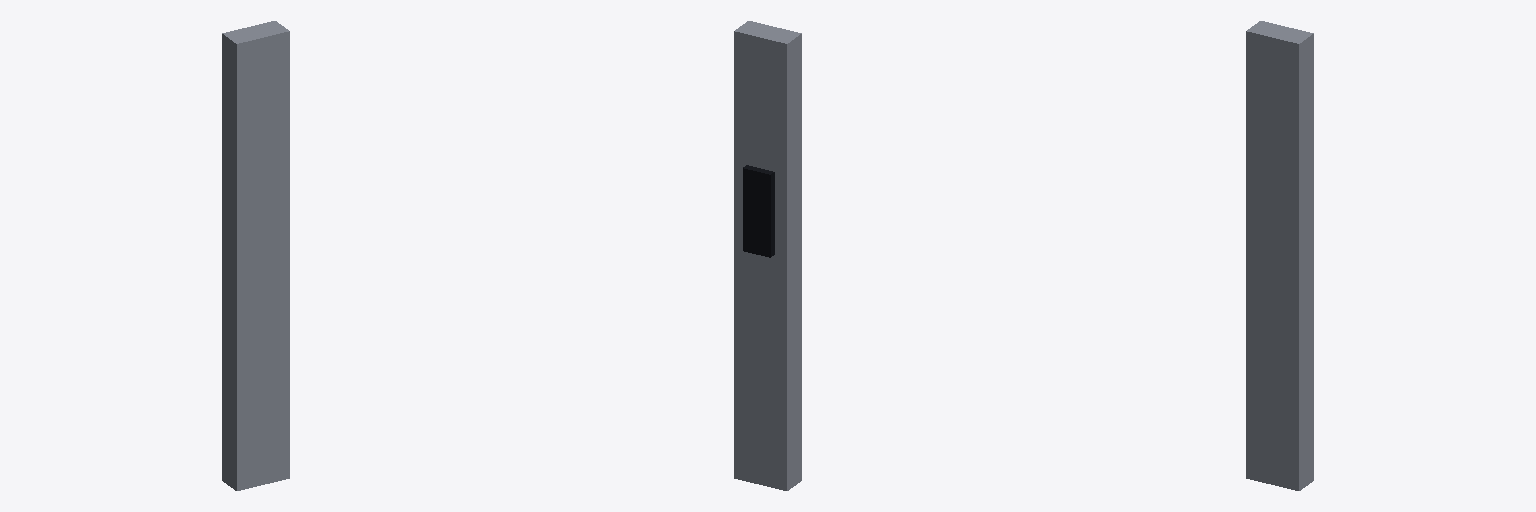
URDF robot description (artmanip_knife_015):
<?xml version='1.0' encoding='utf-8'?>
<robot name="artmanip_knife_015"><link name="link_0"><inertial><mass value="0.029" /><inertia ixx="5.3876419006903214e-05" iyy="5.4519448581070636e-05" izz="1.01890051501797e-06" ixy="0" ixz="0" iyz="0" /></inertial><visual><geometry><box size="0.01854312823282648 0.008818526042105103 0.1490500728681166" /></geometry><material name="link_0_color"><color rgba=".58 .60 .64 1" /></material></visual><collision><geometry><box size="0.01854312823282648 0.008818526042105103 0.1490500728681166" /></geometry></collision></link><link name="link_1"><inertial><mass value="0.006" /><inertia ixx="3.8602913610909997e-07" iyy="4.3045985869148696e-07" izz="5.0775541471966024e-08" ixy="0" ixz="0" iyz="0" /></inertial><visual><geometry><box size="0.009757369730329634 0.002518892393410057 0.027671527845939785" /></geometry><material name="link_1_color"><color rgba=".12 .13 .15 1" /></material></visual><collision><geometry><box size="0.009757369730329634 0.002518892393410057 0.027671527845939785" /></geometry></collision></link><joint name="slider" type="prismatic"><parent link="link_0" /><child link="link_1" /><origin xyz="0.0 0.00566870921775758 0.0171267433491104" /><axis xyz="0 0 1" /><limit lower="-0.03948425427932789" upper="0.010515745720672112" effort="100" velocity="1" /><dynamics damping="1000" friction="0.001" /></joint></robot>

--- What the picture shows (computed from the rendered views, not written in the file) ---
Views: 3 orthographic renders of the robot side by side, from view 1: azimuth 30°, elevation 25°; view 2: azimuth 150°, elevation 25°; view 3: azimuth 330°, elevation 25°.
Robot: artmanip_knife_015 — 2 links, 1 joints (1 prismatic); root link link_0; default pose: all joints at 0.
Visible links, largest first — view 1: link_0; view 2: link_0, link_1; view 3: link_0.
Link boxes in pixels (x1,y1,x2,y2): link_0: [222, 21, 289, 490]; link_0: [734, 21, 801, 490]; link_1: [743, 165, 774, 257]; link_0: [1246, 21, 1313, 490].
Size in the robot's own frame: 0.0185 by 0.0113 by 0.1491 metres.
Geometry: primitives only (box / cylinder / sphere), no mesh files.
